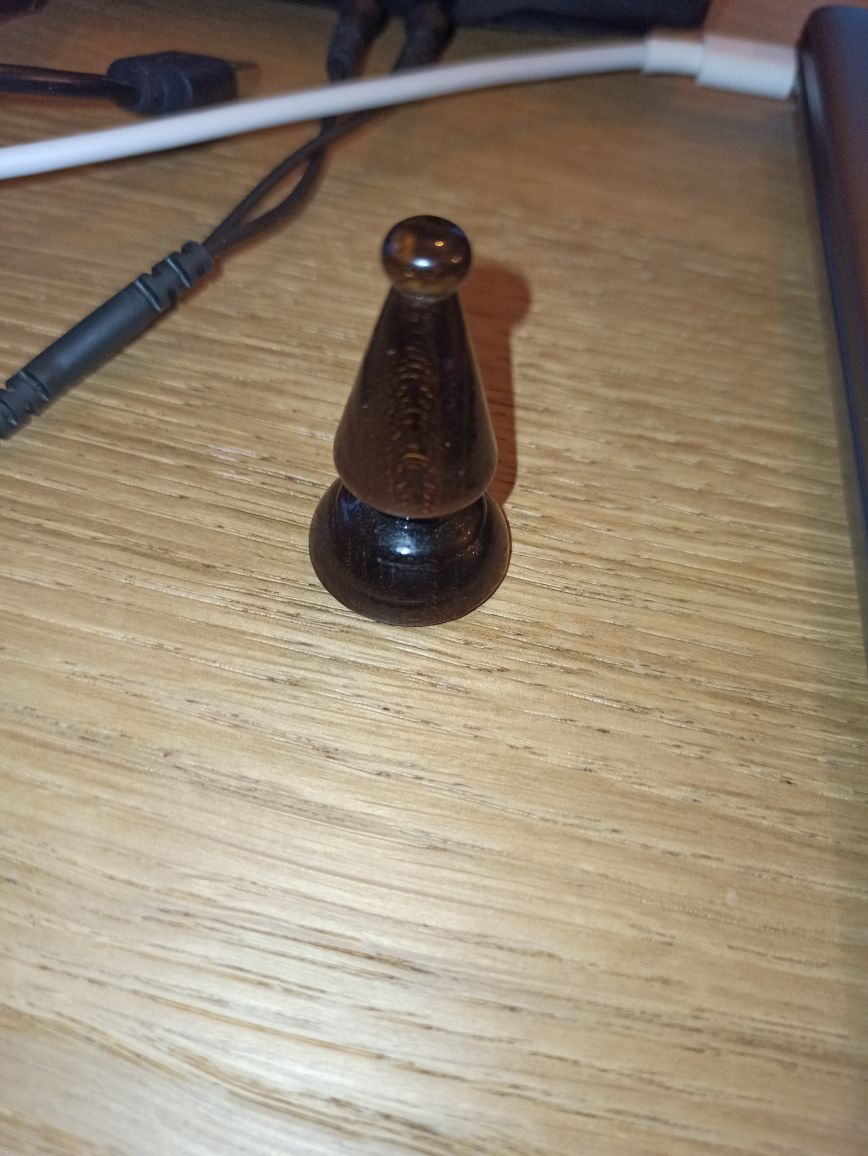bbishop: (306, 215, 515, 631)
